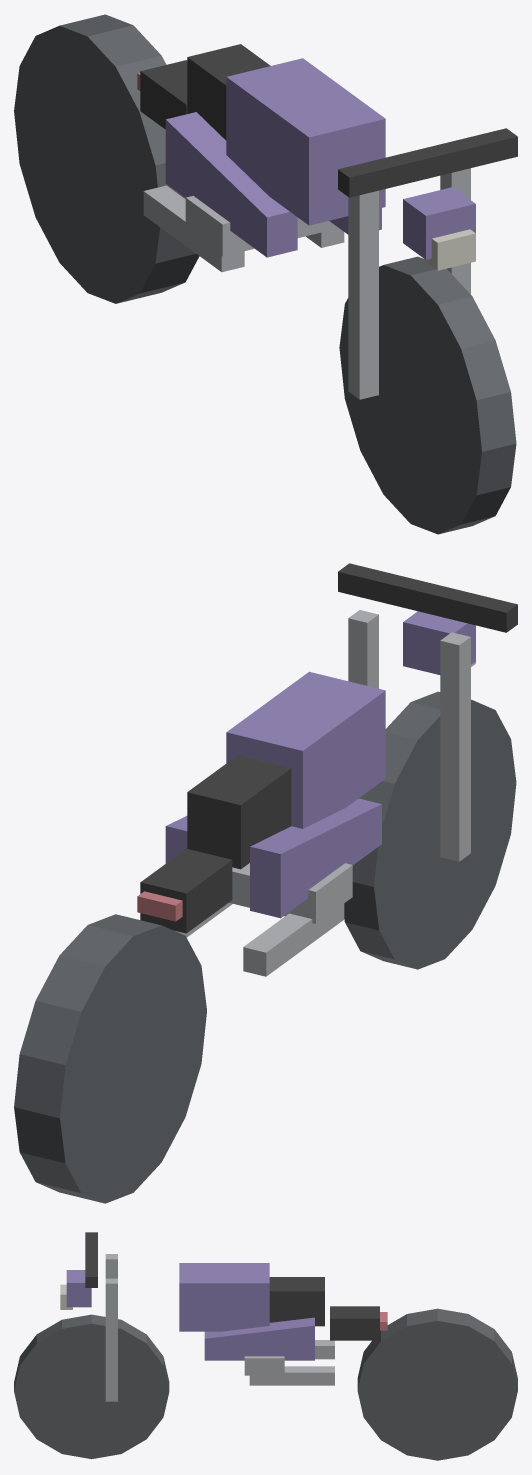
File: yesun.glb
The picture shows the model from 3 angles, top to bottom: view 1: azimuth 30°, elevation 25°; view 2: azimuth 150°, elevation 25°; view 3: azimuth 270°, elevation 25°; orthographic projection. The views are drawn at different scales.
Parts seen in each view (by area): view 1: wheel_R, wheel_F, fuel_tank, frame_L, front_fork_L, handlebar, seat, head_cowl, swingarm_L, tail, engine_block, headlight (+1 smaller); view 2: wheel_R, wheel_F, fuel_tank, frame_L, seat, front_fork_L, handlebar, tail, swingarm_L, head_cowl, engine_block, front_fork_R (+2 smaller); view 3: wheel_R, wheel_F, fuel_tank, frame_R, seat, tail, front_fork_R, swingarm_R, head_cowl, engine_block, handlebar, swingarm_L (+1 smaller).
Part boxes in pixels (box(x1,y1,x2,y2)): wheel_R: box(14, 14, 199, 303); wheel_F: box(339, 256, 516, 534); fuel_tank: box(226, 58, 385, 225); frame_L: box(165, 112, 297, 257); front_fork_L: box(348, 190, 378, 399); handlebar: box(338, 128, 517, 197); seat: box(187, 44, 270, 140); head_cowl: box(403, 187, 475, 259); swingarm_L: box(143, 185, 244, 272); tail: box(140, 60, 187, 129); engine_block: box(185, 195, 338, 256); headlight: box(426, 229, 475, 270); wheel_R: box(14, 914, 206, 1203); wheel_F: box(344, 691, 516, 969); fuel_tank: box(226, 671, 385, 828); frame_L: box(250, 798, 381, 918); seat: box(187, 755, 291, 869); front_fork_L: box(440, 632, 470, 861); handlebar: box(338, 563, 517, 632); tail: box(140, 848, 232, 933); swingarm_L: box(243, 903, 344, 976); head_cowl: box(403, 611, 475, 674); engine_block: box(229, 863, 352, 923); front_fork_R: box(348, 610, 378, 688); wheel_R: box(357, 1308, 517, 1460); wheel_F: box(14, 1314, 169, 1459); fuel_tank: box(179, 1263, 269, 1331); frame_R: box(204, 1317, 314, 1360); seat: box(269, 1277, 324, 1326); tail: box(330, 1306, 379, 1340); front_fork_R: box(105, 1278, 117, 1401); swingarm_R: box(249, 1366, 334, 1385); head_cowl: box(66, 1270, 91, 1307); engine_block: box(244, 1356, 284, 1375); handlebar: box(85, 1232, 97, 1287); swingarm_L: box(315, 1340, 334, 1359).
Bounding box in the file's own units: 0.44 × 0.915 × 2.09.
